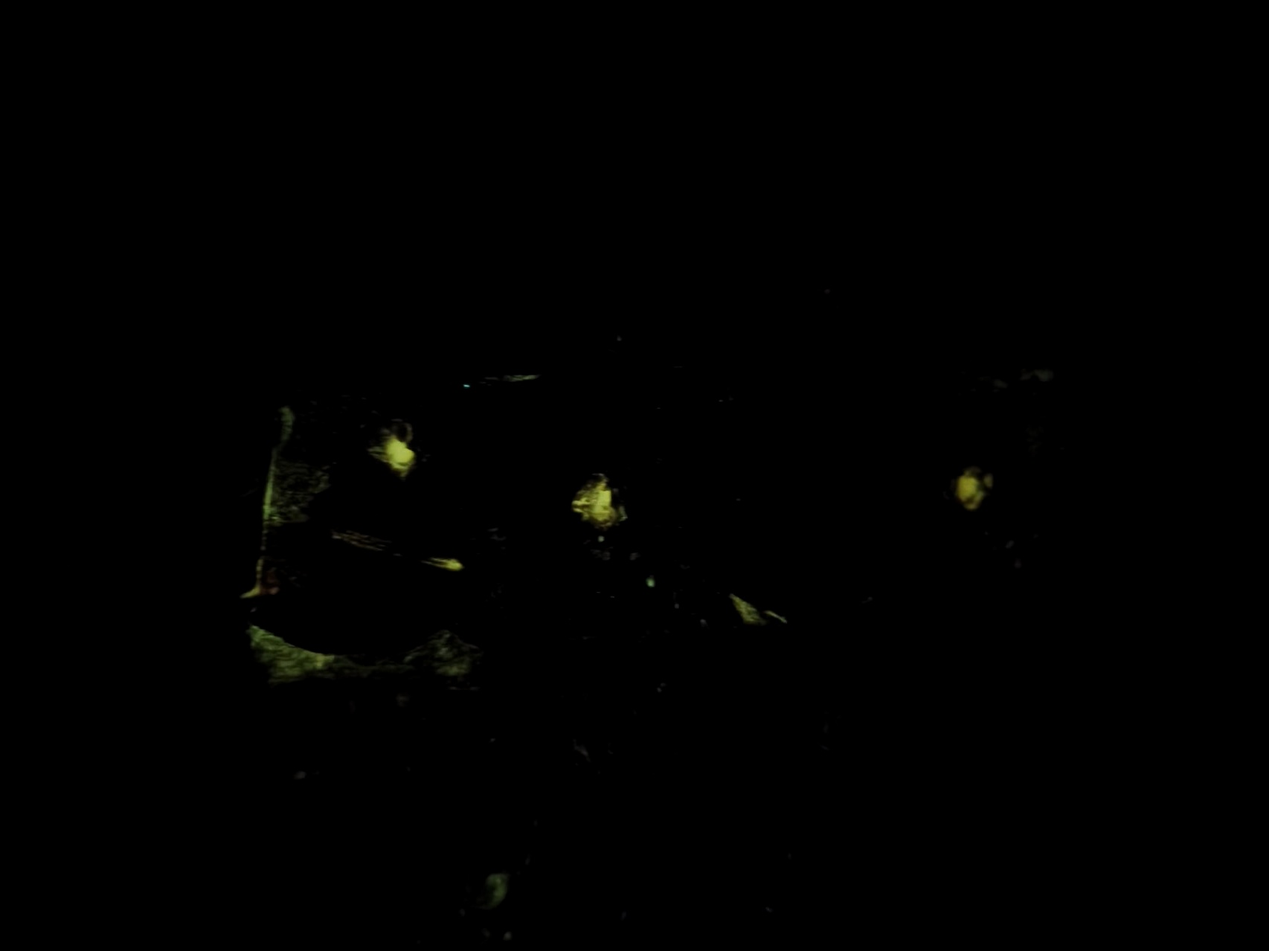Crater: (543, 469, 661, 551), (343, 420, 444, 501), (923, 454, 1009, 531)
